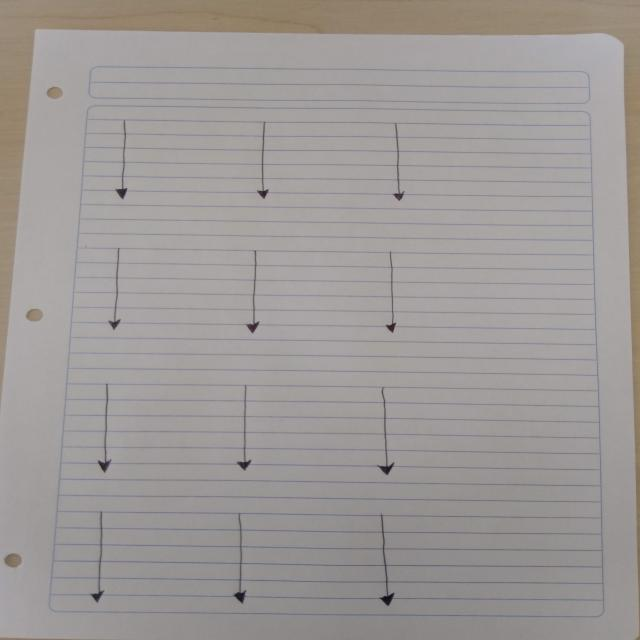arrow_line_down: (360, 513, 414, 607), (366, 386, 404, 481), (230, 384, 267, 476), (90, 377, 123, 475), (228, 510, 258, 612), (388, 121, 422, 208), (238, 248, 272, 334), (378, 252, 414, 329), (253, 120, 282, 199), (90, 510, 113, 604), (103, 249, 130, 328), (109, 118, 132, 201)
